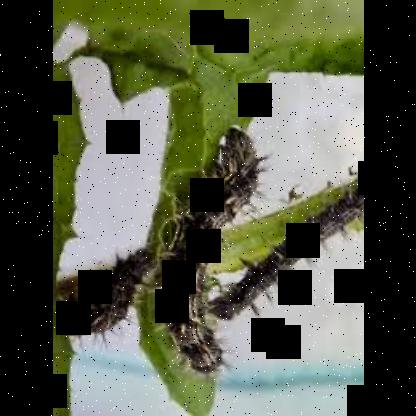oruga: (163, 123, 265, 378), (210, 175, 364, 325), (67, 246, 169, 342)
